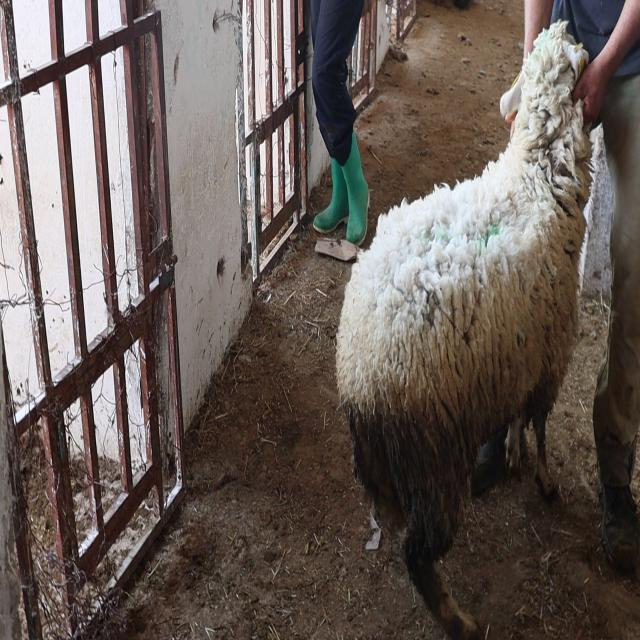Score_4: (336, 21, 592, 638)
